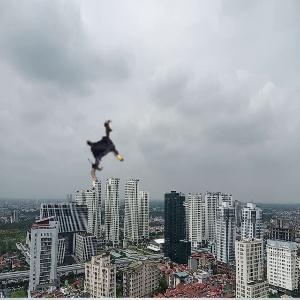drone: (73, 120, 135, 182)
